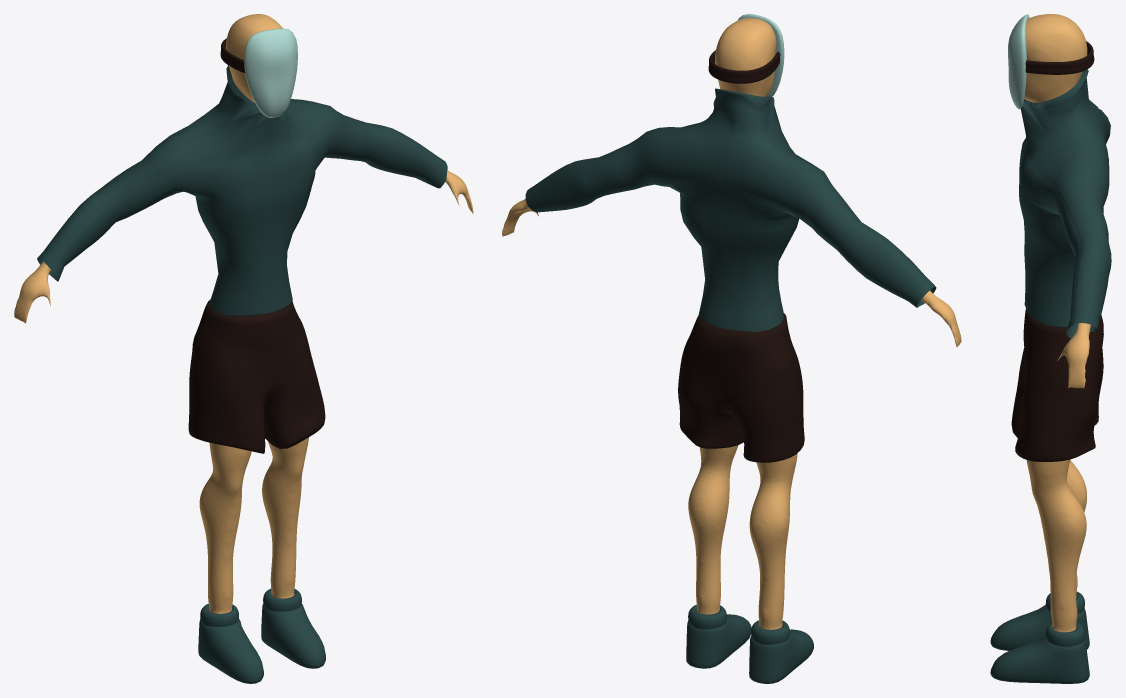
The picture shows the model from 3 angles, left to right: view 1: azimuth 30°, elevation 25°; view 2: azimuth 150°, elevation 25°; view 3: azimuth 270°, elevation 25°; orthographic projection.
Visible parts, largest first — view 1: Cube.001; view 2: Cube.001; view 3: Cube.001.
Part boxes in pixels (box(x1,y1,x2,y2)): Cube.001: box(14, 14, 473, 683); Cube.001: box(502, 14, 961, 683); Cube.001: box(990, 14, 1111, 683).
Size of the model in its own units: 1005 by 1348 by 230.
